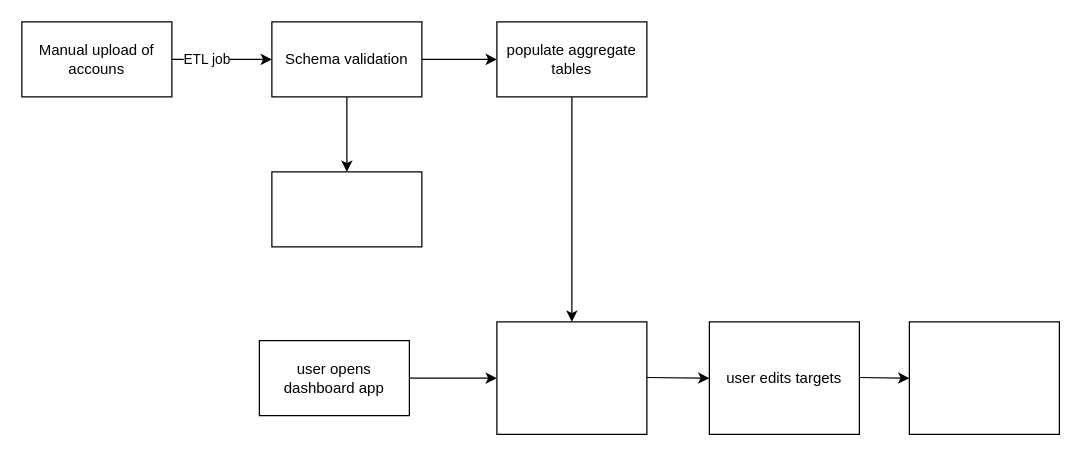
This 1081x456 diagram has some shape labels left out. The shapes that lost their labels are listed below. From the top down, each one's box as (x1, y1, x2, y2) in pixels, then its label:
(271, 171, 422, 247): logged to invalid table in raw folder
(496, 321, 647, 434): populates dashbaord from aggregate tables and target json files
(908, 321, 1059, 434): update settings json file
